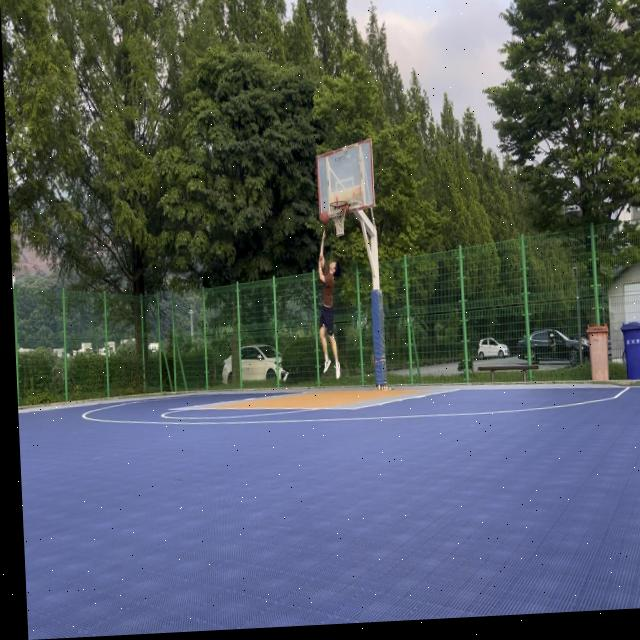basketball: (319, 210, 330, 226)
hoop: (329, 200, 349, 238)
